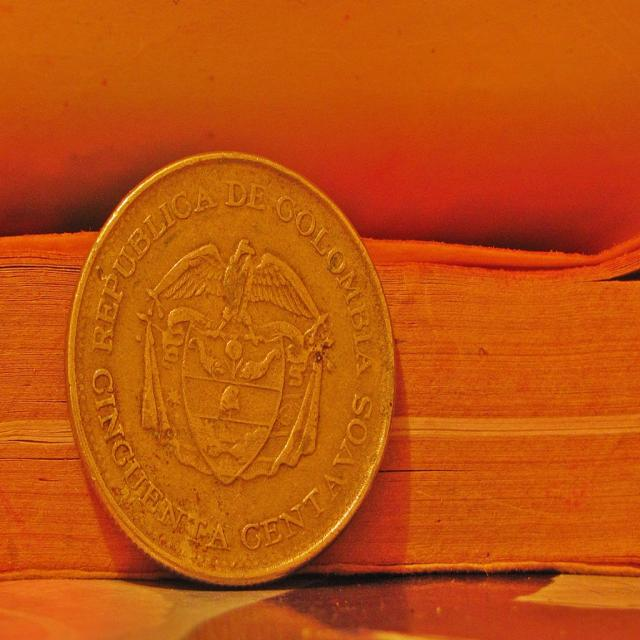Coin: (60, 146, 398, 586)
